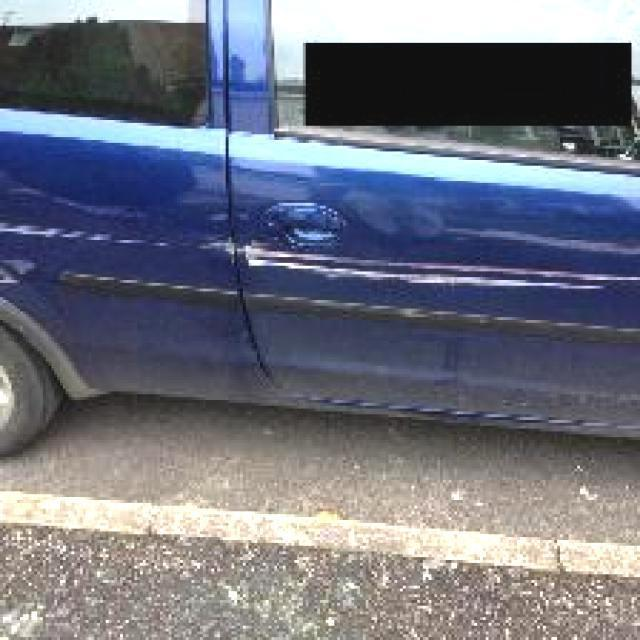minor: (4, 186, 130, 217)
moderate: (246, 251, 629, 288), (0, 226, 227, 250)
